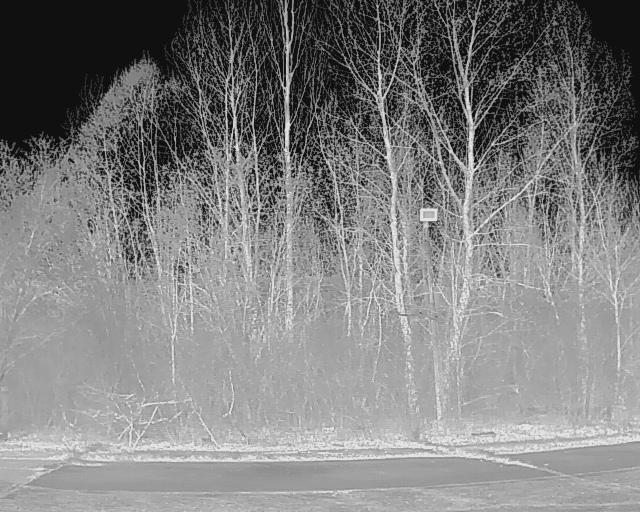drone: (380, 305, 446, 333)
